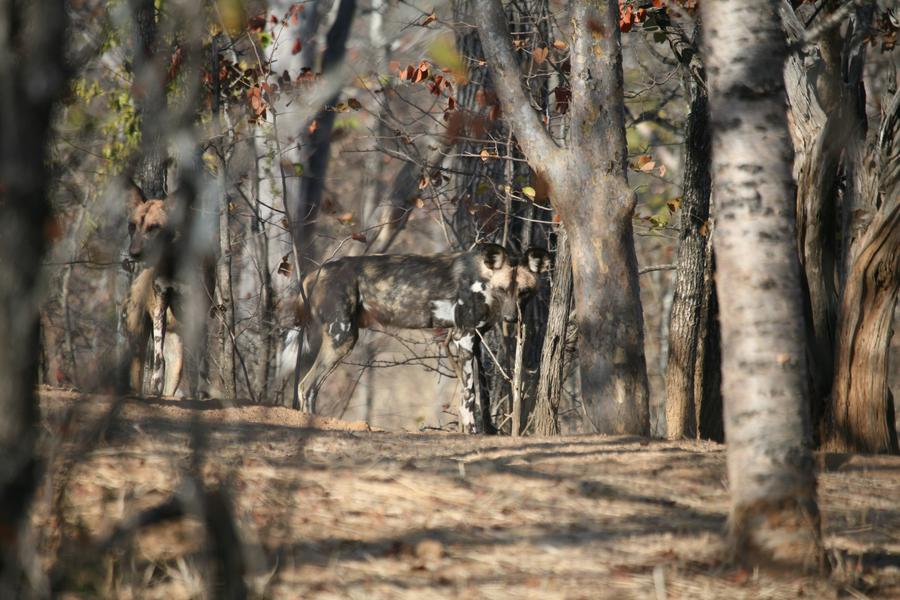wilddog: (305, 245, 538, 395), (116, 181, 180, 398)
